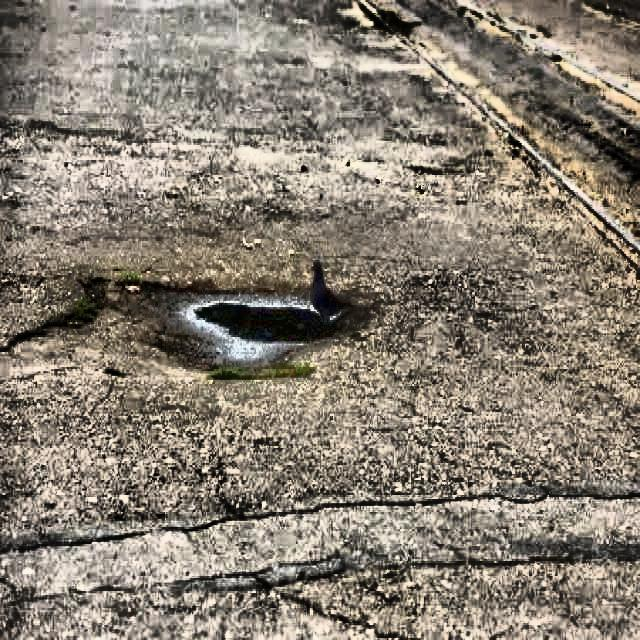buraco: (76, 264, 362, 380)
